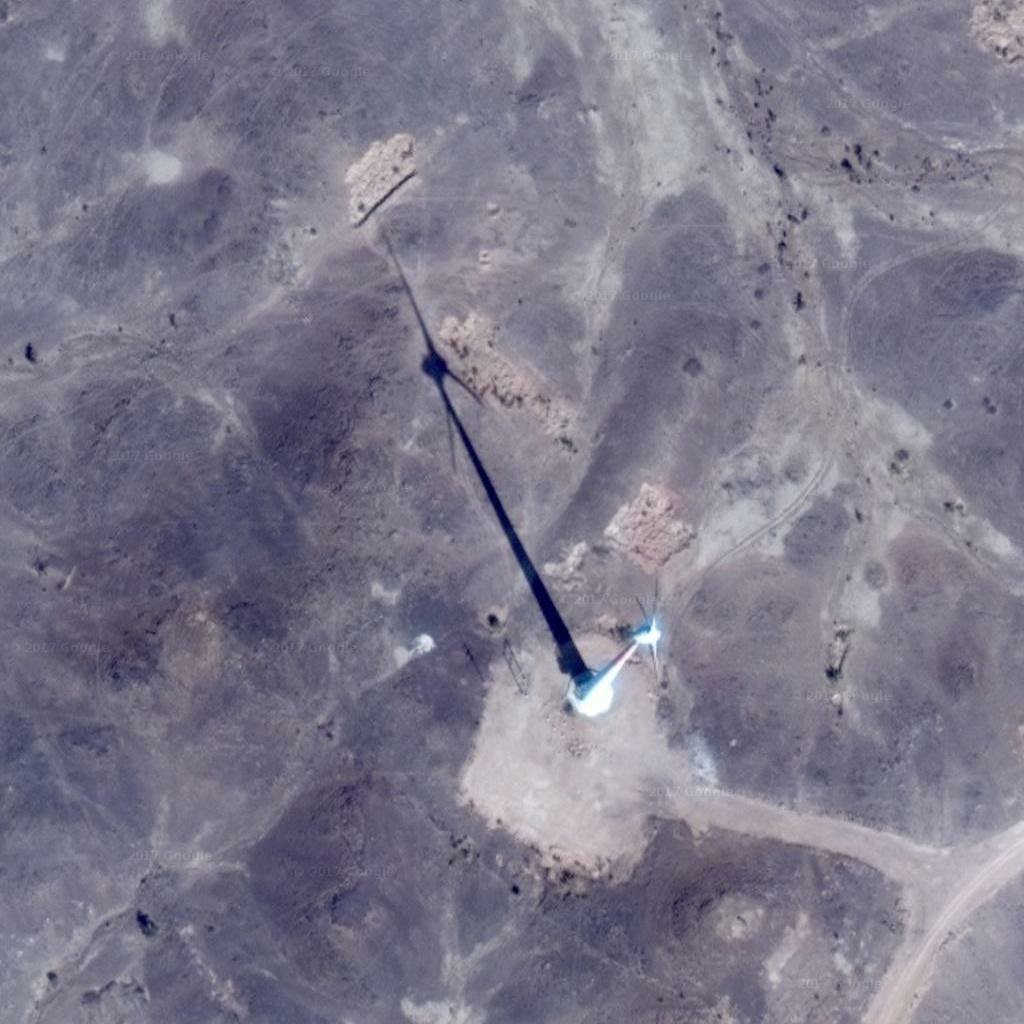Windmill: (368, 228, 611, 671)
